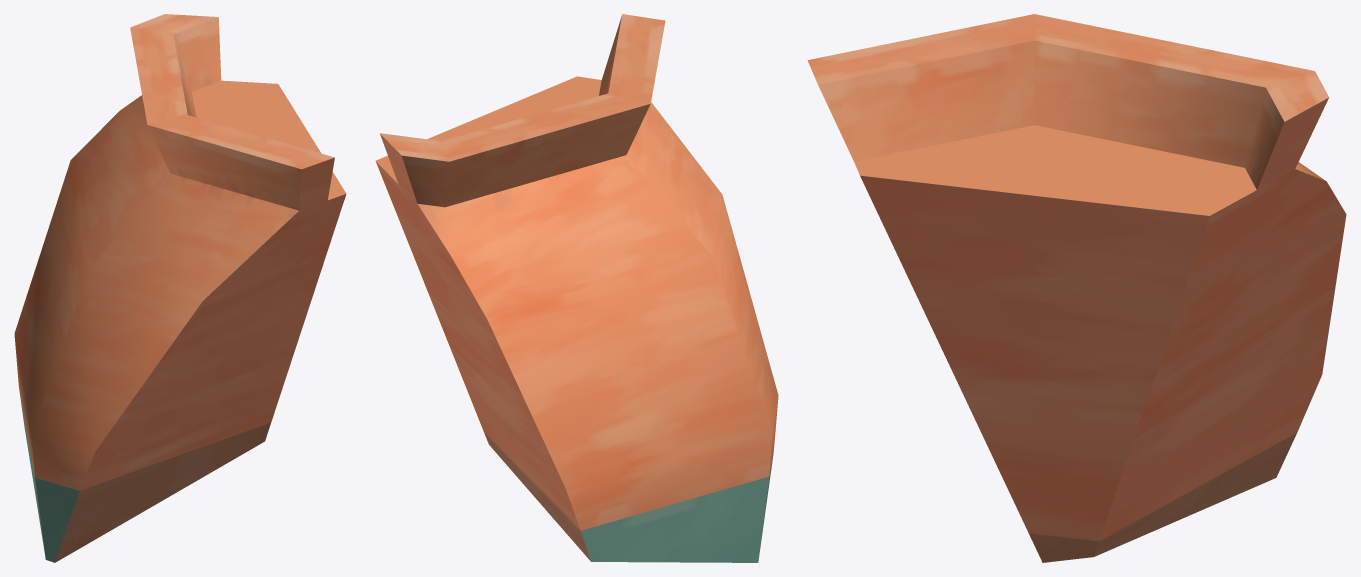
The model's file is pot_round_s04.fbx.
3 views of the same model, side by side, from view 1: azimuth 30°, elevation 25°; view 2: azimuth 150°, elevation 25°; view 3: azimuth 270°, elevation 25° (orthographic). The views are drawn at different scales.
Visible parts, largest first — view 1: pot_round_s04; view 2: pot_round_s04; view 3: pot_round_s04.
Part boxes in pixels (box(x1,y1,x2,y2)): pot_round_s04: box(14, 14, 346, 562); pot_round_s04: box(375, 14, 778, 562); pot_round_s04: box(807, 14, 1346, 562).
Bounding box in the file's own units: 1.08 × 1.36 × 1.2.
